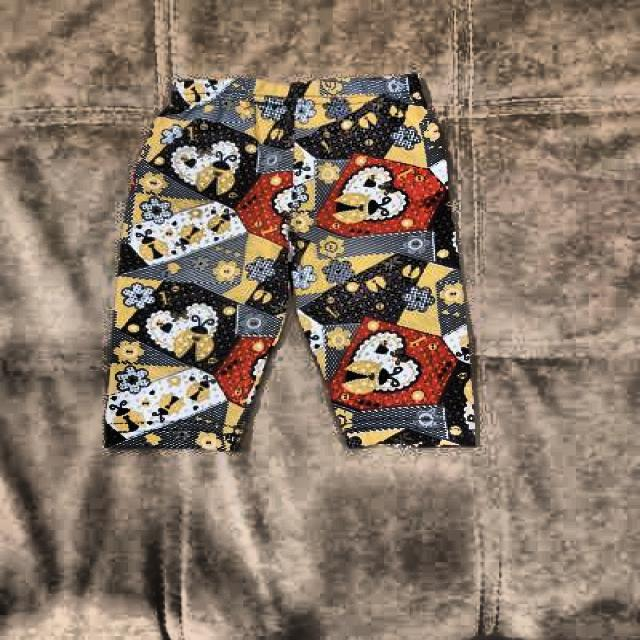clothes: (103, 67, 479, 453)
